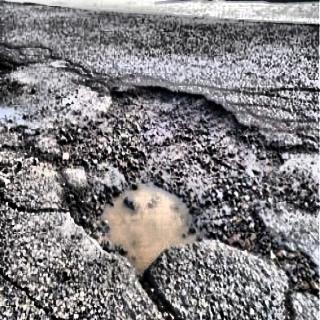pothole: (49, 78, 310, 282)
